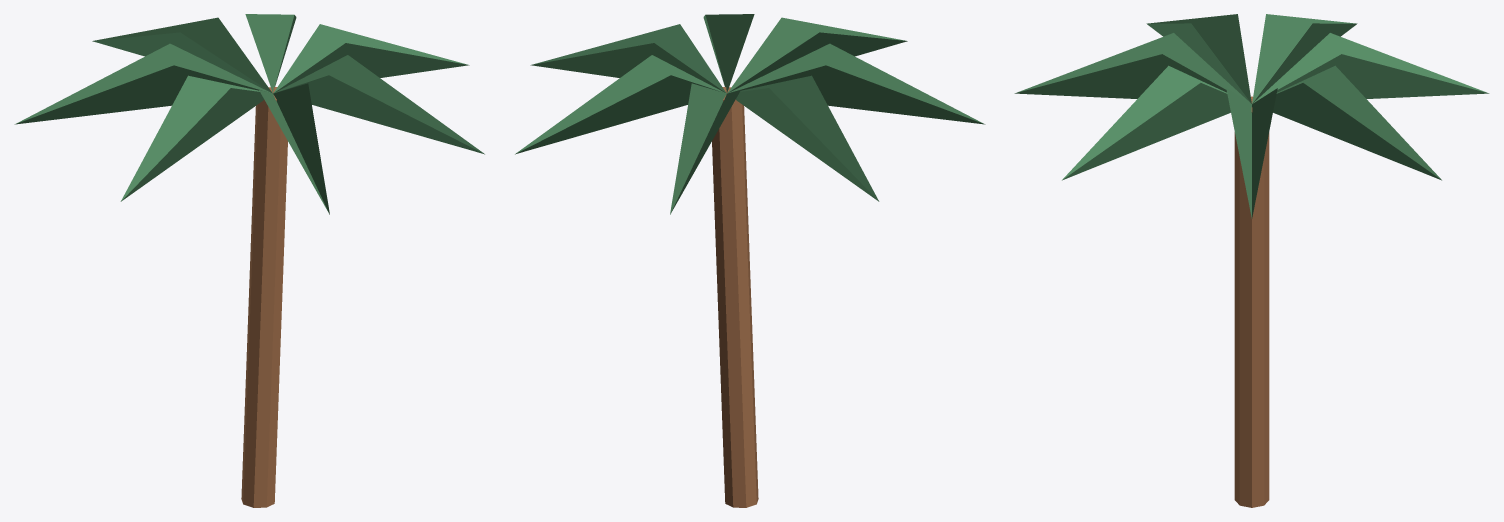
The model's file is Tree_Palm.fbx.
The picture shows the model from 3 angles, left to right: view 1: azimuth 30°, elevation 25°; view 2: azimuth 150°, elevation 25°; view 3: azimuth 270°, elevation 25°; orthographic projection.
Visible parts, largest first — view 1: Trunk.001, PalmLeaf.003, PalmLeaf.006, PalmLeaf.004, PalmLeaf, PalmLeaf.002, PalmLeaf.005, PalmLeaf.001; view 2: Trunk.001, PalmLeaf.004, PalmLeaf.001, PalmLeaf.003, PalmLeaf, PalmLeaf.005, PalmLeaf.002, PalmLeaf.006; view 3: Trunk.001, PalmLeaf.001, PalmLeaf.006, PalmLeaf.002, PalmLeaf.005, PalmLeaf.003, PalmLeaf.004, PalmLeaf.
Boxes of the visible parts, <box> form: Trunk.001: <box>241,87,287,507</box>; PalmLeaf.003: <box>14,43,271,124</box>; PalmLeaf.006: <box>274,55,484,154</box>; PalmLeaf.004: <box>120,75,263,201</box>; PalmLeaf: <box>273,24,469,93</box>; PalmLeaf.002: <box>92,17,272,93</box>; PalmLeaf.005: <box>259,83,329,214</box>; PalmLeaf.001: <box>245,14,296,92</box>; Trunk.001: <box>712,87,758,507</box>; PalmLeaf.004: <box>728,43,985,124</box>; PalmLeaf.001: <box>515,55,725,154</box>; PalmLeaf.003: <box>736,75,879,201</box>; PalmLeaf: <box>530,24,726,93</box>; PalmLeaf.005: <box>727,17,907,93</box>; PalmLeaf.002: <box>670,83,740,214</box>; PalmLeaf.006: <box>703,14,754,92</box>; Trunk.001: <box>1234,96,1269,507</box>; PalmLeaf.001: <box>1273,65,1441,180</box>; PalmLeaf.006: <box>1062,65,1230,180</box>; PalmLeaf.002: <box>1253,33,1489,103</box>; PalmLeaf.005: <box>1014,33,1250,103</box>; PalmLeaf.003: <box>1252,14,1357,103</box>; PalmLeaf.004: <box>1146,14,1251,103</box>; PalmLeaf: <box>1226,88,1277,218</box>.
Bounding box in the file's own units: 3.23 × 3.45 × 3.31.
